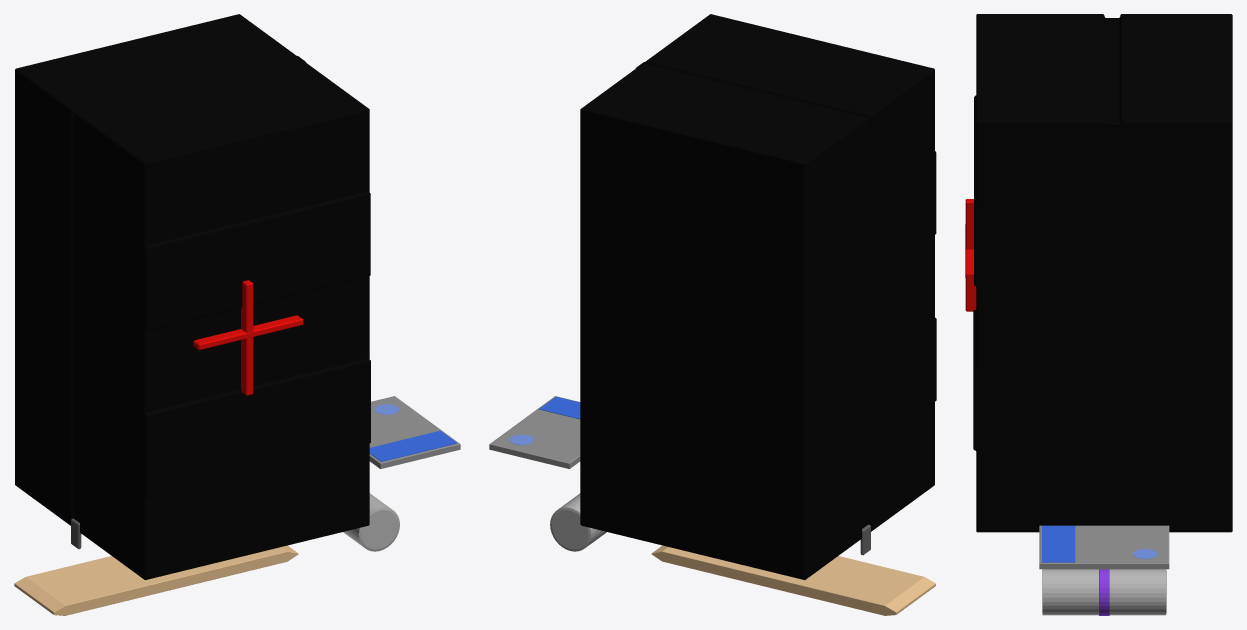
The model's file is meds.fbx.
3 views of the same model, side by side, from view 1: azimuth 30°, elevation 25°; view 2: azimuth 150°, elevation 25°; view 3: azimuth 270°, elevation 25° (orthographic).
Parts seen in each view (by area): view 1: Cube.004, Cube.001, Cylinder, Cylinder.001; view 2: Cube.004, Cube.001, Cylinder, Cylinder.001; view 3: Cube.004, Cylinder, Cylinder.001.
Boxes of the visible parts, left/top/right/bottom form: Cube.004: left=15, top=14, right=370, bottom=579; Cube.001: left=14, top=545, right=298, bottom=615; Cylinder: left=369, top=396, right=460, bottom=468; Cylinder.001: left=343, top=493, right=399, bottom=551; Cube.004: left=580, top=14, right=936, bottom=579; Cube.001: left=651, top=545, right=935, bottom=615; Cylinder: left=489, top=396, right=580, bottom=468; Cylinder.001: left=550, top=493, right=606, bottom=551; Cube.004: left=965, top=14, right=1232, bottom=532; Cylinder: left=1039, top=525, right=1169, bottom=569; Cylinder.001: left=1042, top=569, right=1166, bottom=615.
Size of the model in its own units: 57.92 by 67.22 by 34.56.
